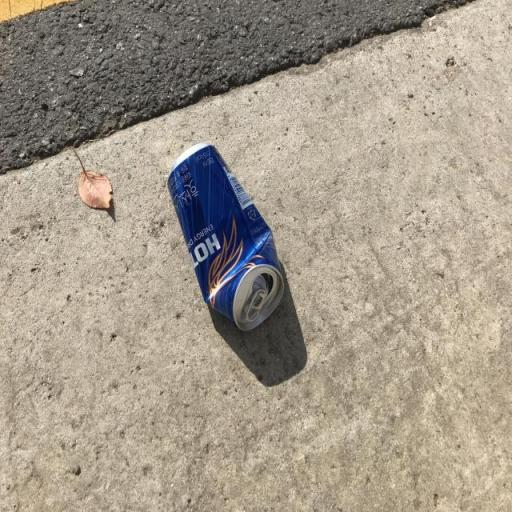metal: (149, 126, 290, 346)
